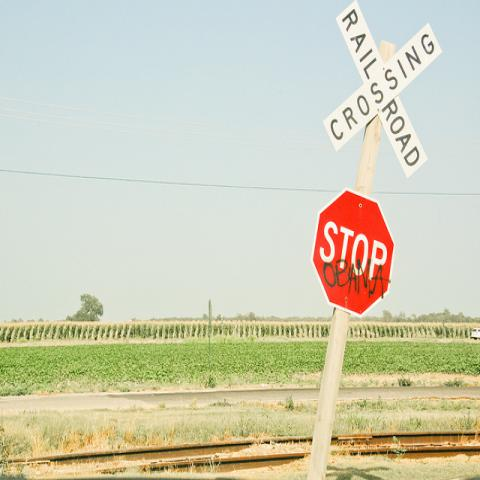car: (470, 327, 480, 341)
